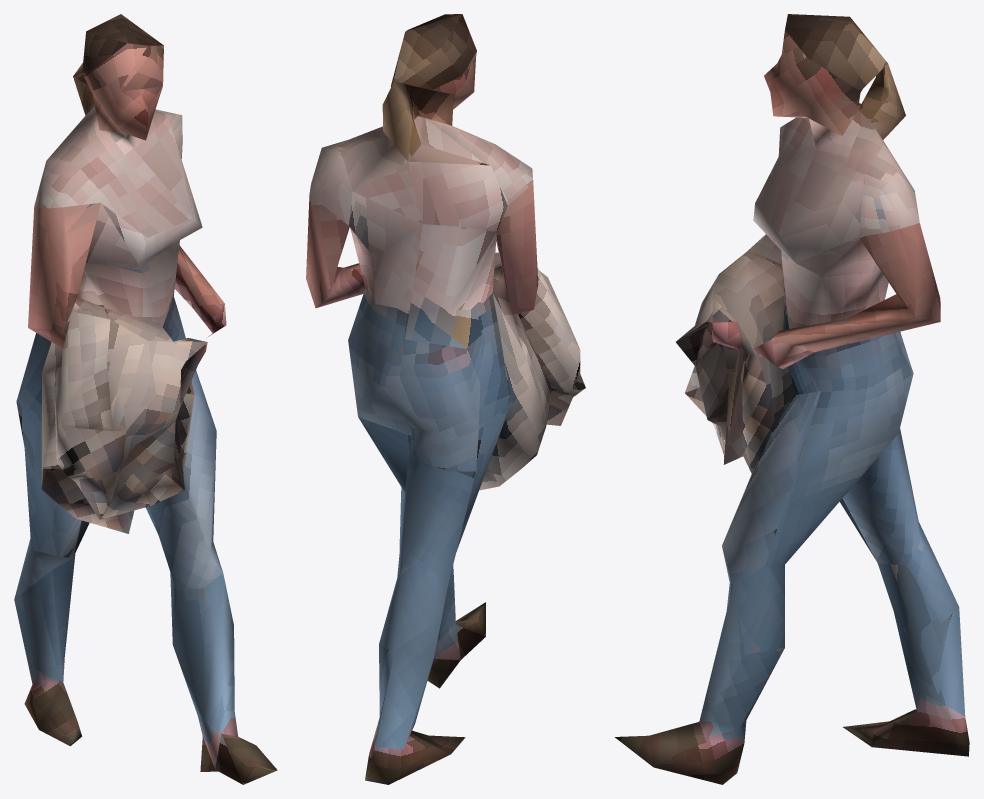
3 renders of one model, left to right at view 1: azimuth 30°, elevation 25°; view 2: azimuth 150°, elevation 25°; view 3: azimuth 270°, elevation 25°, orthographic. The views are drawn at different scales.
Visible parts, largest first — view 1: Object_2.003; view 2: Object_2.003; view 3: Object_2.003.
Boxes of the visible parts, <box> form: Object_2.003: <box>14,14,277,784</box>; Object_2.003: <box>306,14,585,784</box>; Object_2.003: <box>615,14,969,784</box>.
Bounding box in the file's own units: 0.4738 × 1.64 × 0.7161.
1 material, 1 textured.
